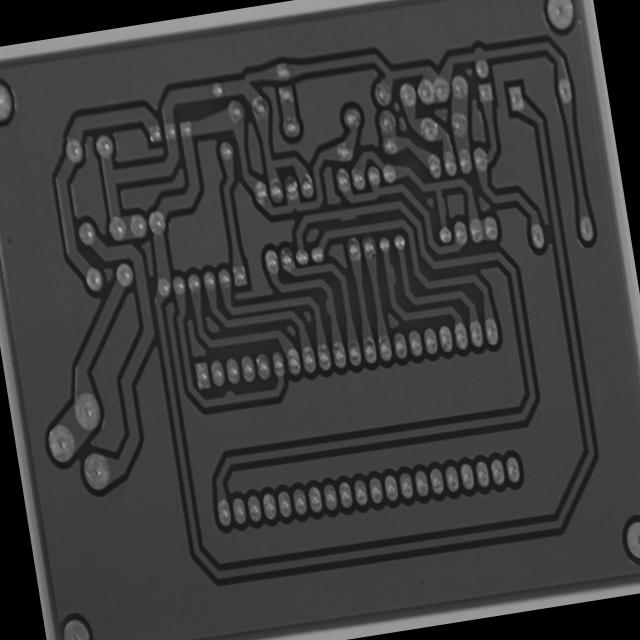spur: (332, 203, 364, 228), (215, 384, 244, 408), (382, 258, 400, 292), (320, 291, 337, 320), (434, 193, 450, 218)
